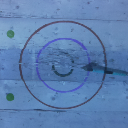Axe Tip: (79, 66, 92, 68)
